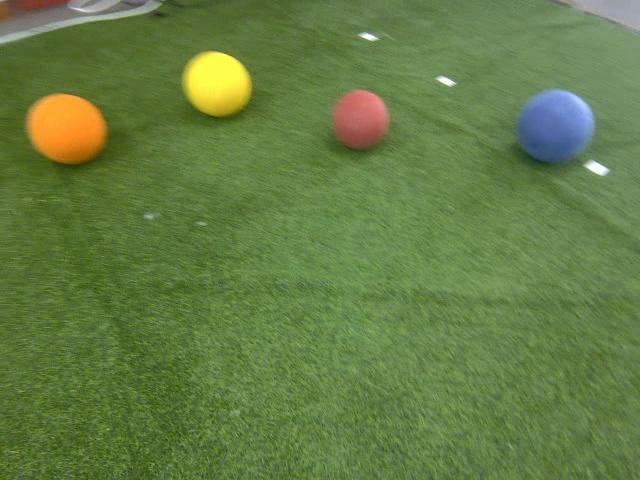blue_ball: (515, 88, 595, 165)
orange_ball: (24, 91, 106, 168)
red_ball: (331, 88, 390, 152)
yellow_ball: (182, 50, 252, 119)
